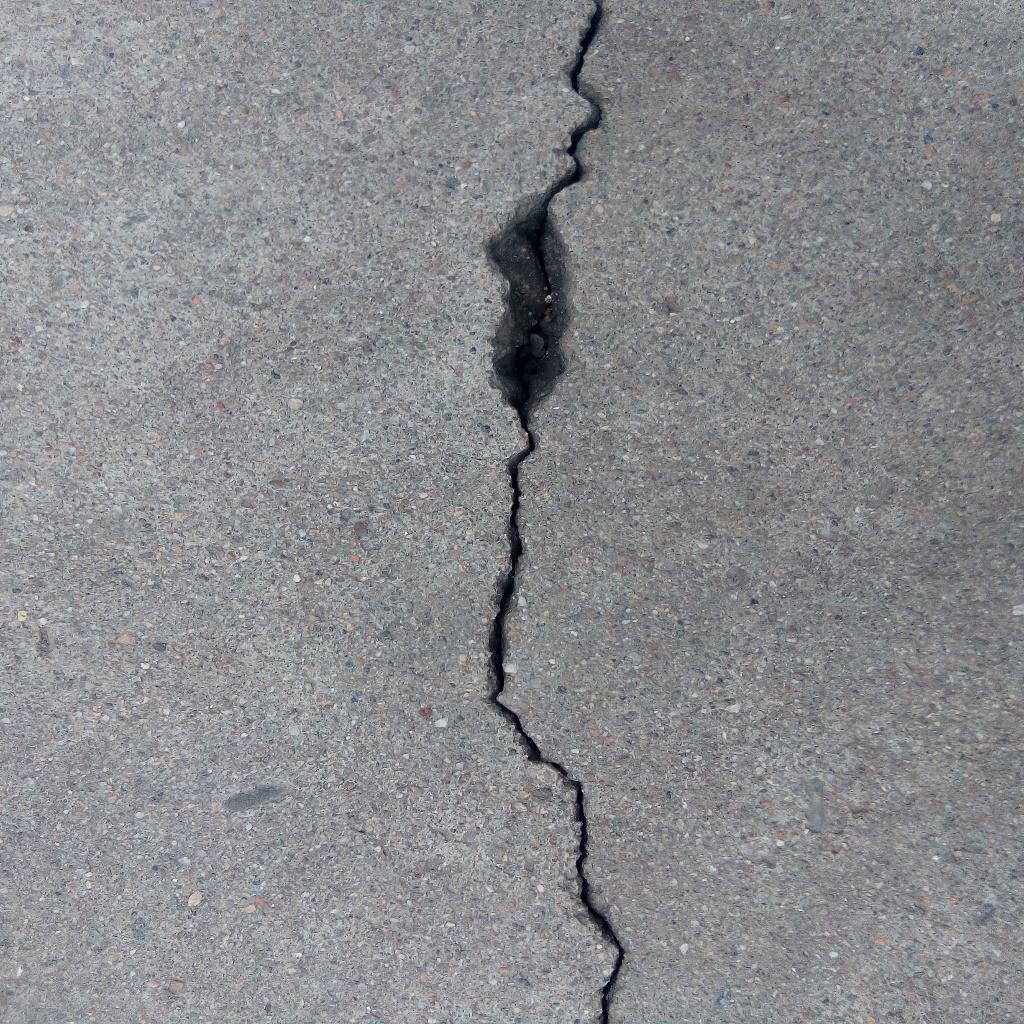Crack: (485, 419, 625, 1024), (546, 1, 609, 206)
Spalling: (482, 206, 575, 418)
